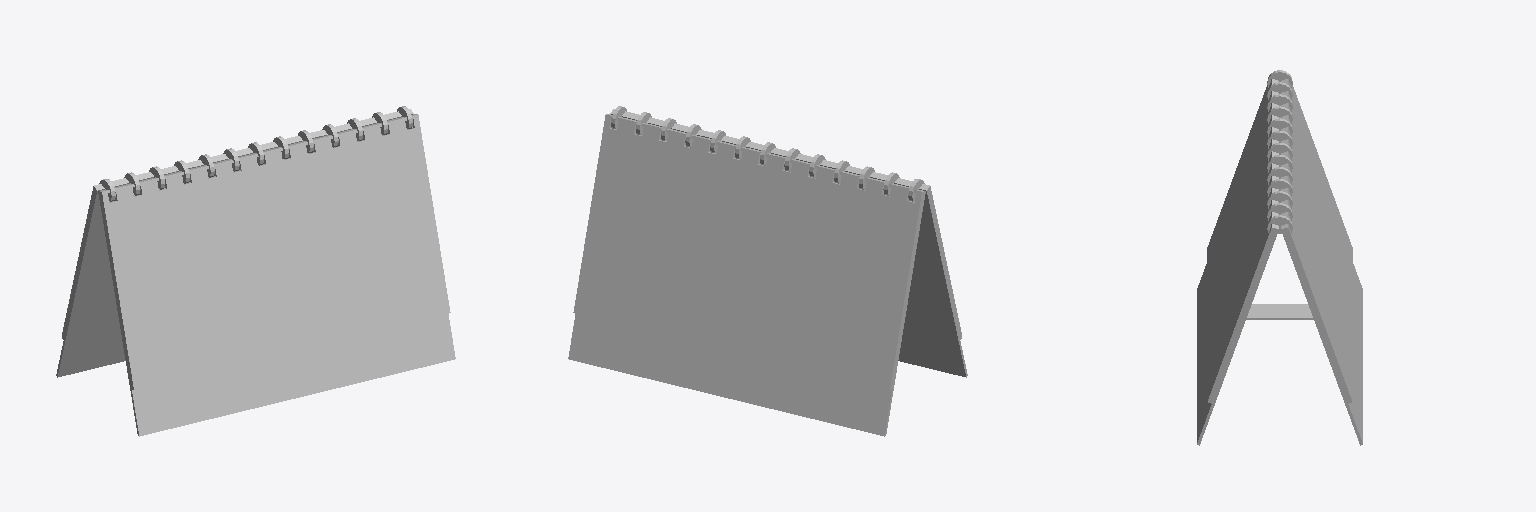
3 views of the same model, side by side, from view 1: azimuth 30°, elevation 25°; view 2: azimuth 150°, elevation 25°; view 3: azimuth 270°, elevation 25° (orthographic).
Visible parts, largest first — view 1: Mesh2 Calendar_C01_1 Calendar_LowPoly1 Model, Mesh5 Calendar_C02_1 Calendar_LowPoly1 Model; view 2: Mesh5 Calendar_C02_1 Calendar_LowPoly1 Model, Mesh2 Calendar_C01_1 Calendar_LowPoly1 Model; view 3: Mesh5 Calendar_C02_1 Calendar_LowPoly1 Model, Mesh2 Calendar_C01_1 Calendar_LowPoly1 Model.
Boxes of the visible parts, x1,y1,x2,y2 form: Mesh2 Calendar_C01_1 Calendar_LowPoly1 Model: [98, 114, 455, 436]; Mesh5 Calendar_C02_1 Calendar_LowPoly1 Model: [56, 109, 413, 377]; Mesh5 Calendar_C02_1 Calendar_LowPoly1 Model: [568, 114, 925, 436]; Mesh2 Calendar_C01_1 Calendar_LowPoly1 Model: [610, 109, 967, 377]; Mesh5 Calendar_C02_1 Calendar_LowPoly1 Model: [1246, 79, 1362, 445]; Mesh2 Calendar_C01_1 Calendar_LowPoly1 Model: [1197, 79, 1278, 445].
Bounding box in the file's own units: 23 × 15.61 × 10.48.